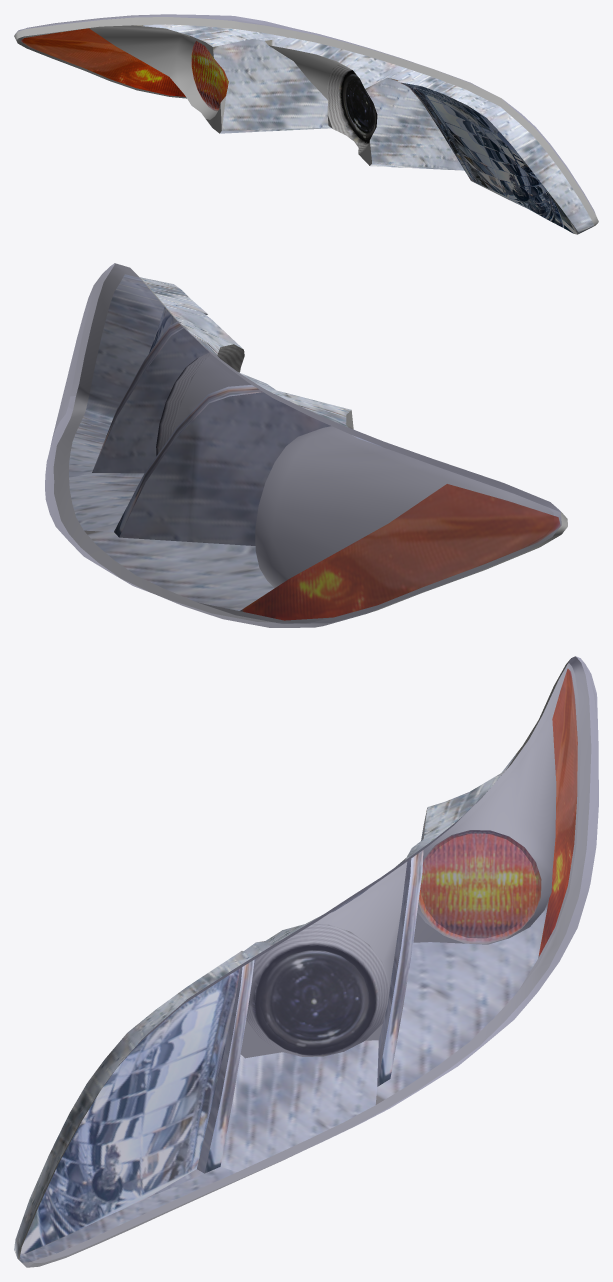
3 views of the same model, one above another, from view 1: azimuth 30°, elevation 25°; view 2: azimuth 150°, elevation 25°; view 3: azimuth 270°, elevation 25° (orthographic). The views are drawn at different scales.
Parts seen in each view (by area): view 1: Y175_18_061B_L_Y175_18_061B_L_2_N, Y175_18_061B_L_3_N_Y175_18_061B_L, Y175_18_061B_L_Y175_18_061B_L_1_DTaSI; view 2: Y175_18_061B_L_Y175_18_061B_L_1_DTaSI, Y175_18_061B_L_Y175_18_061B_L_2_N, Y175_18_061B_L_3_N_Y175_18_061B_L; view 3: Y175_18_061B_L_Y175_18_061B_L_1_DTaSI, Y175_18_061B_L_Y175_18_061B_L_2_N, Y175_18_061B_L_3_N_Y175_18_061B_L.
Part boxes in pixels (x1,y1,x2,y2): Y175_18_061B_L_Y175_18_061B_L_2_N: (21,24,593,234); Y175_18_061B_L_3_N_Y175_18_061B_L: (14,17,598,226); Y175_18_061B_L_Y175_18_061B_L_1_DTaSI: (15,14,595,213); Y175_18_061B_L_Y175_18_061B_L_1_DTaSI: (45,263,561,627); Y175_18_061B_L_Y175_18_061B_L_2_N: (69,274,560,620); Y175_18_061B_L_3_N_Y175_18_061B_L: (53,263,567,627); Y175_18_061B_L_Y175_18_061B_L_1_DTaSI: (19,656,598,1267); Y175_18_061B_L_Y175_18_061B_L_2_N: (14,669,577,1262); Y175_18_061B_L_3_N_Y175_18_061B_L: (17,656,591,1267).
Size of the model in its own units: 53.51 by 21.76 by 39.81.
